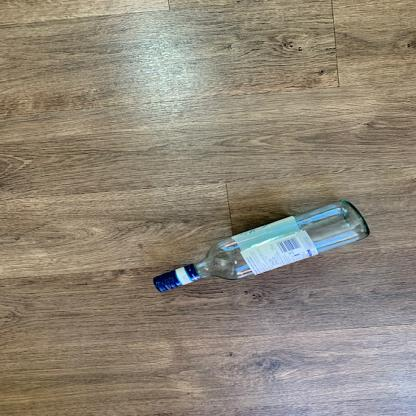trash: (151, 200, 375, 299)
